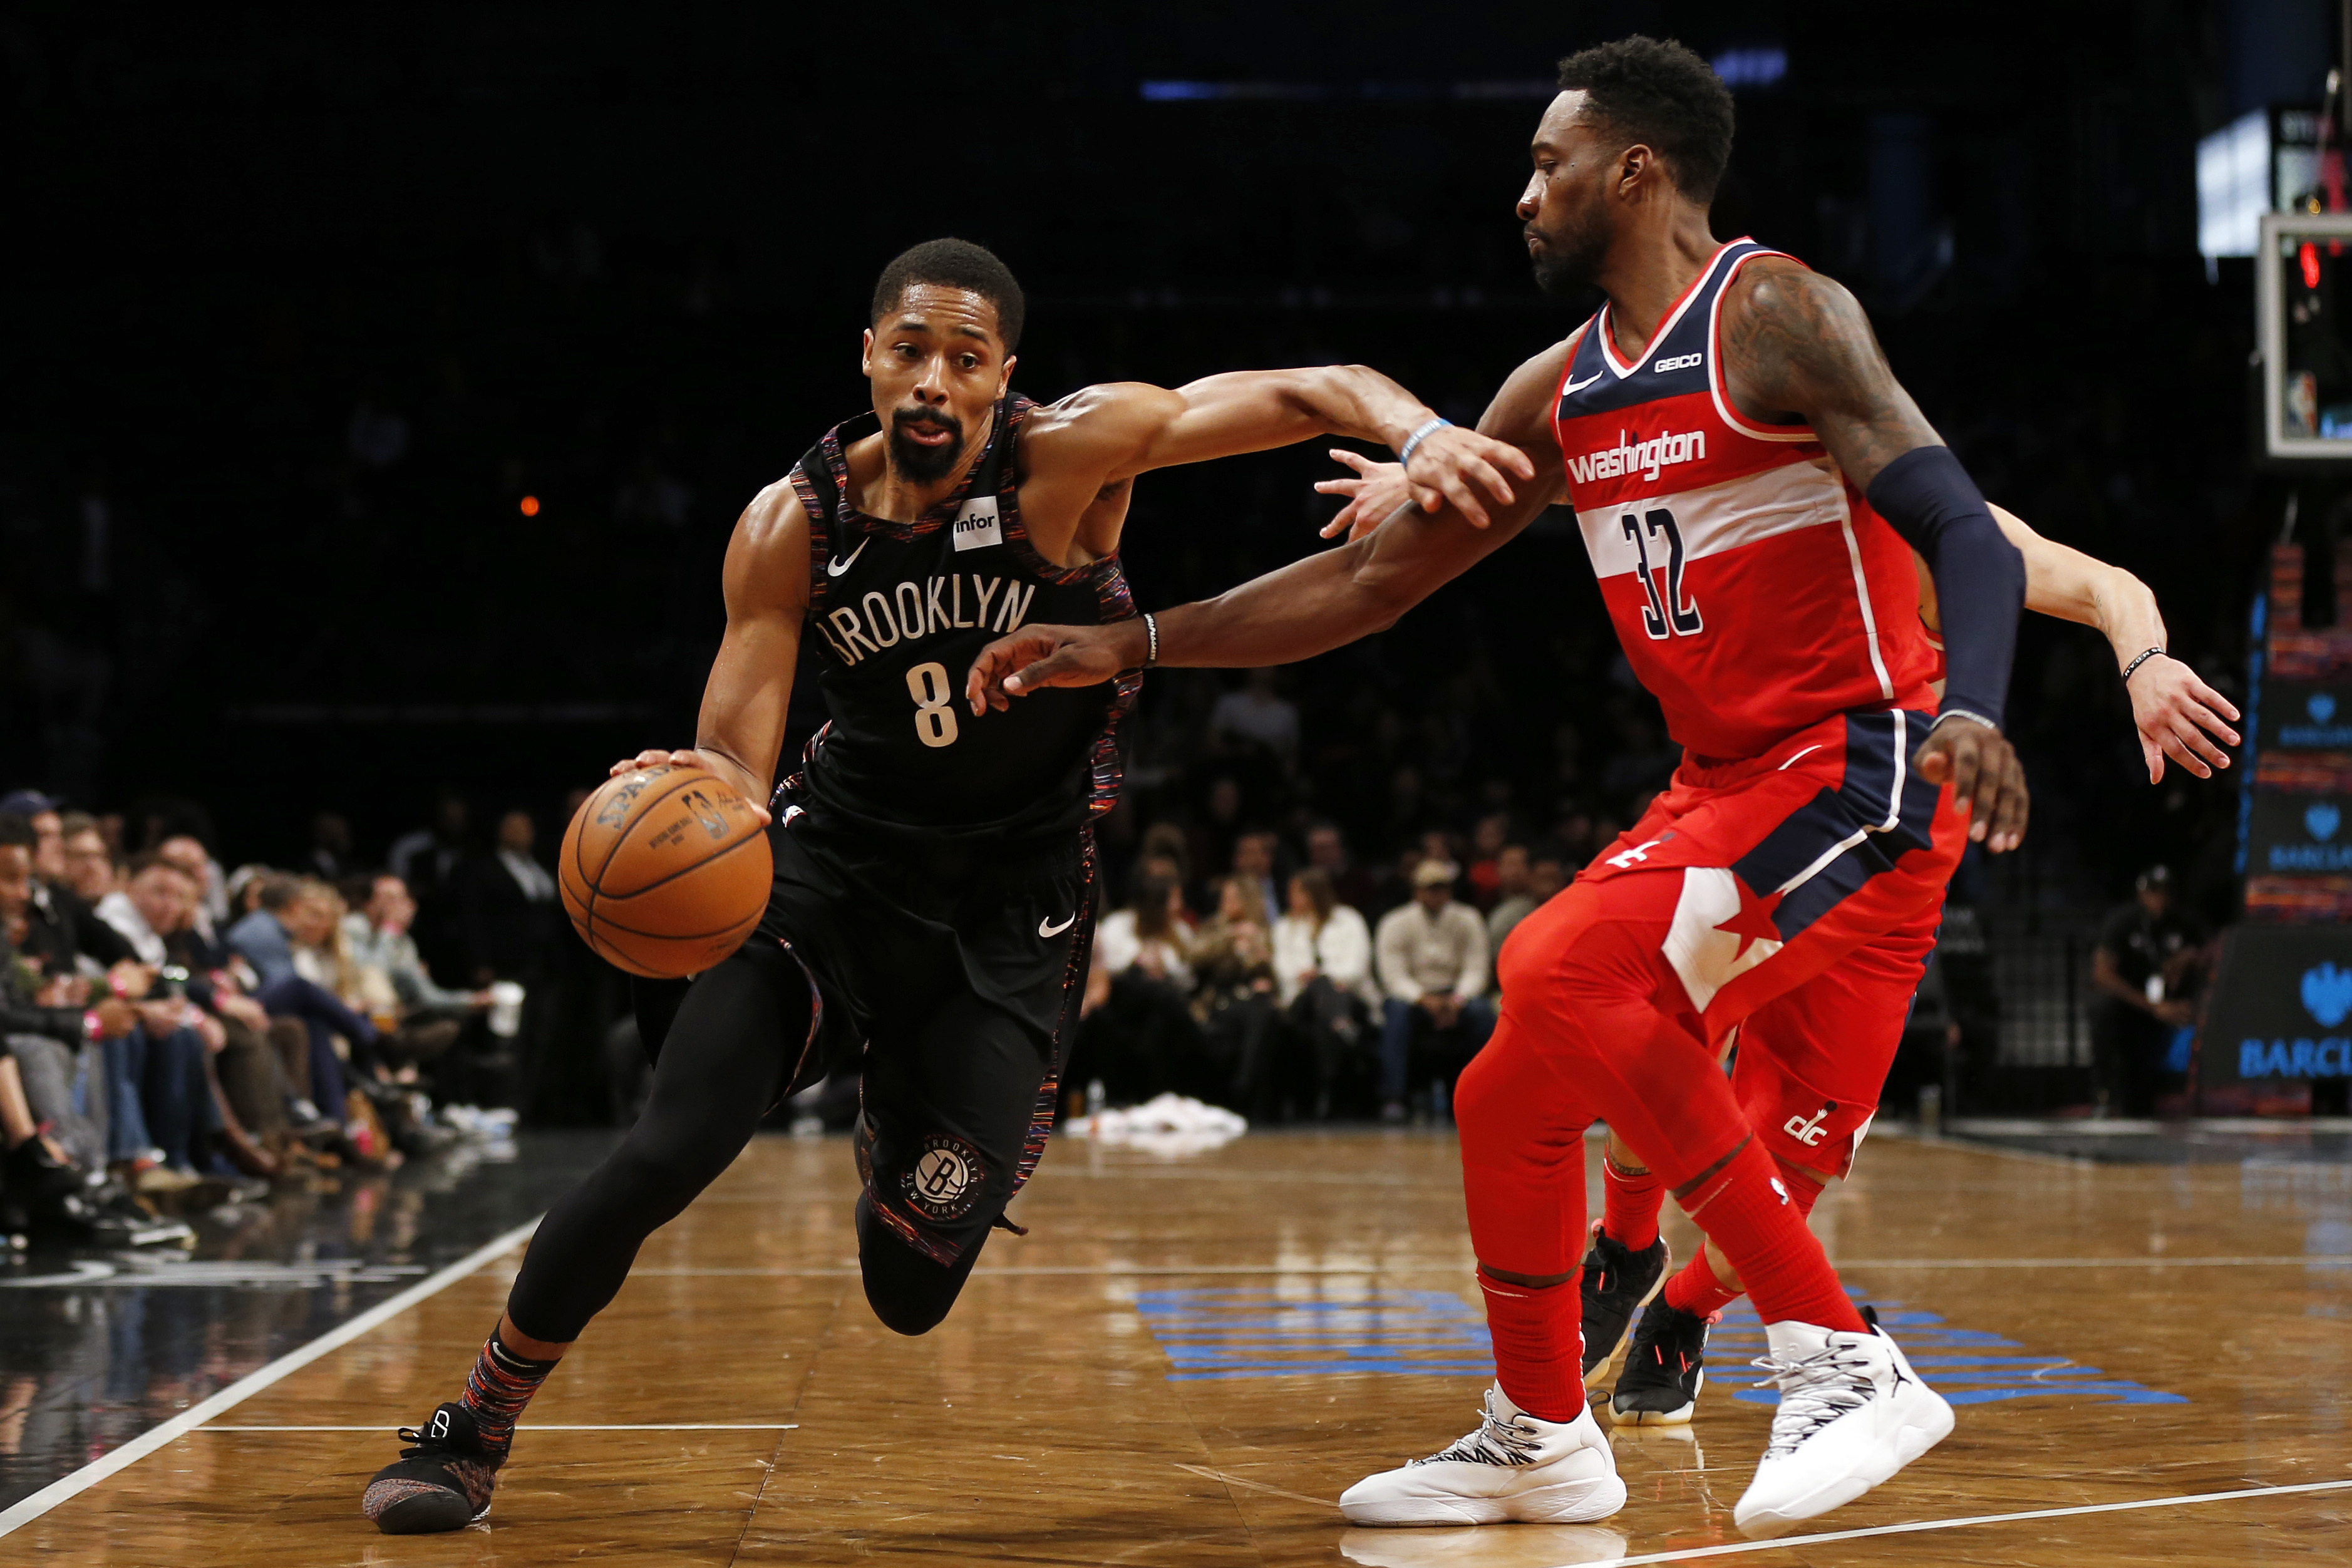Geico: (1650, 345, 1708, 382)
